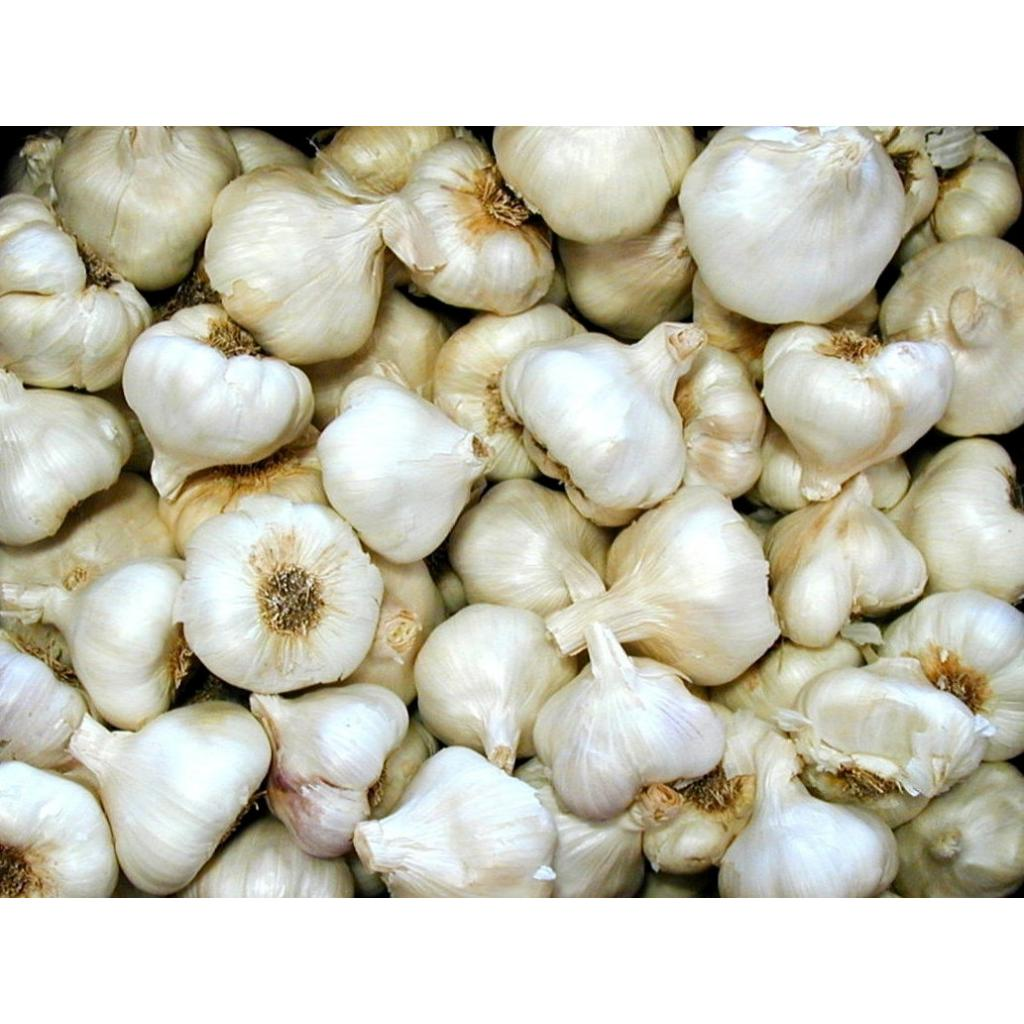garlic: (169, 205, 891, 797), (0, 642, 270, 895), (204, 168, 444, 364), (546, 486, 780, 685), (680, 126, 906, 324), (500, 324, 706, 526), (174, 496, 384, 693), (70, 700, 268, 893), (534, 622, 726, 820), (776, 658, 994, 826), (764, 324, 954, 500), (318, 376, 492, 564), (354, 746, 556, 897), (718, 730, 898, 897), (766, 474, 928, 647), (414, 604, 578, 771), (400, 138, 554, 315), (250, 684, 406, 858), (880, 590, 1024, 761), (0, 368, 132, 546)
